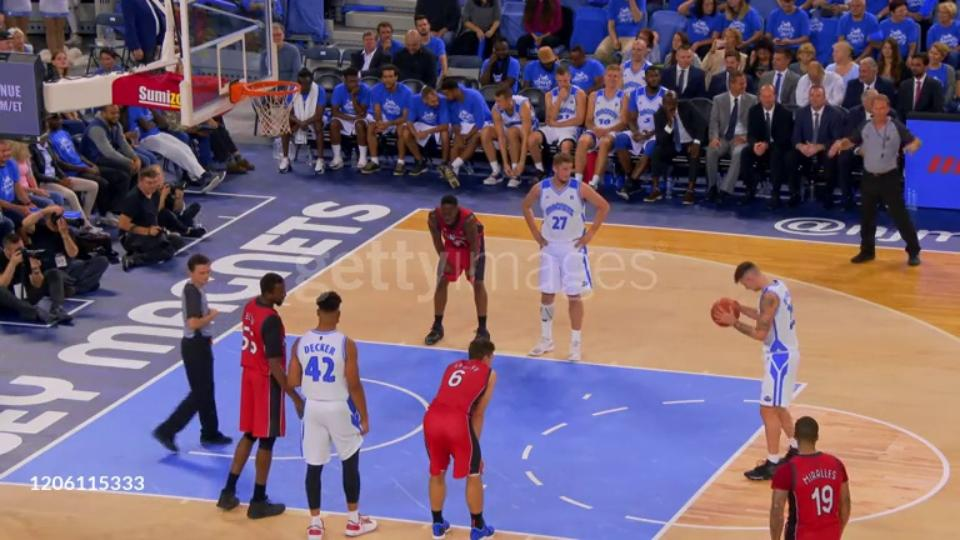hoop: (225, 77, 304, 101)
